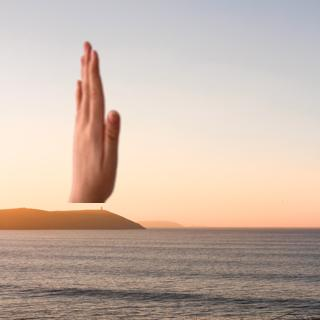Right: (62, 29, 121, 208)
